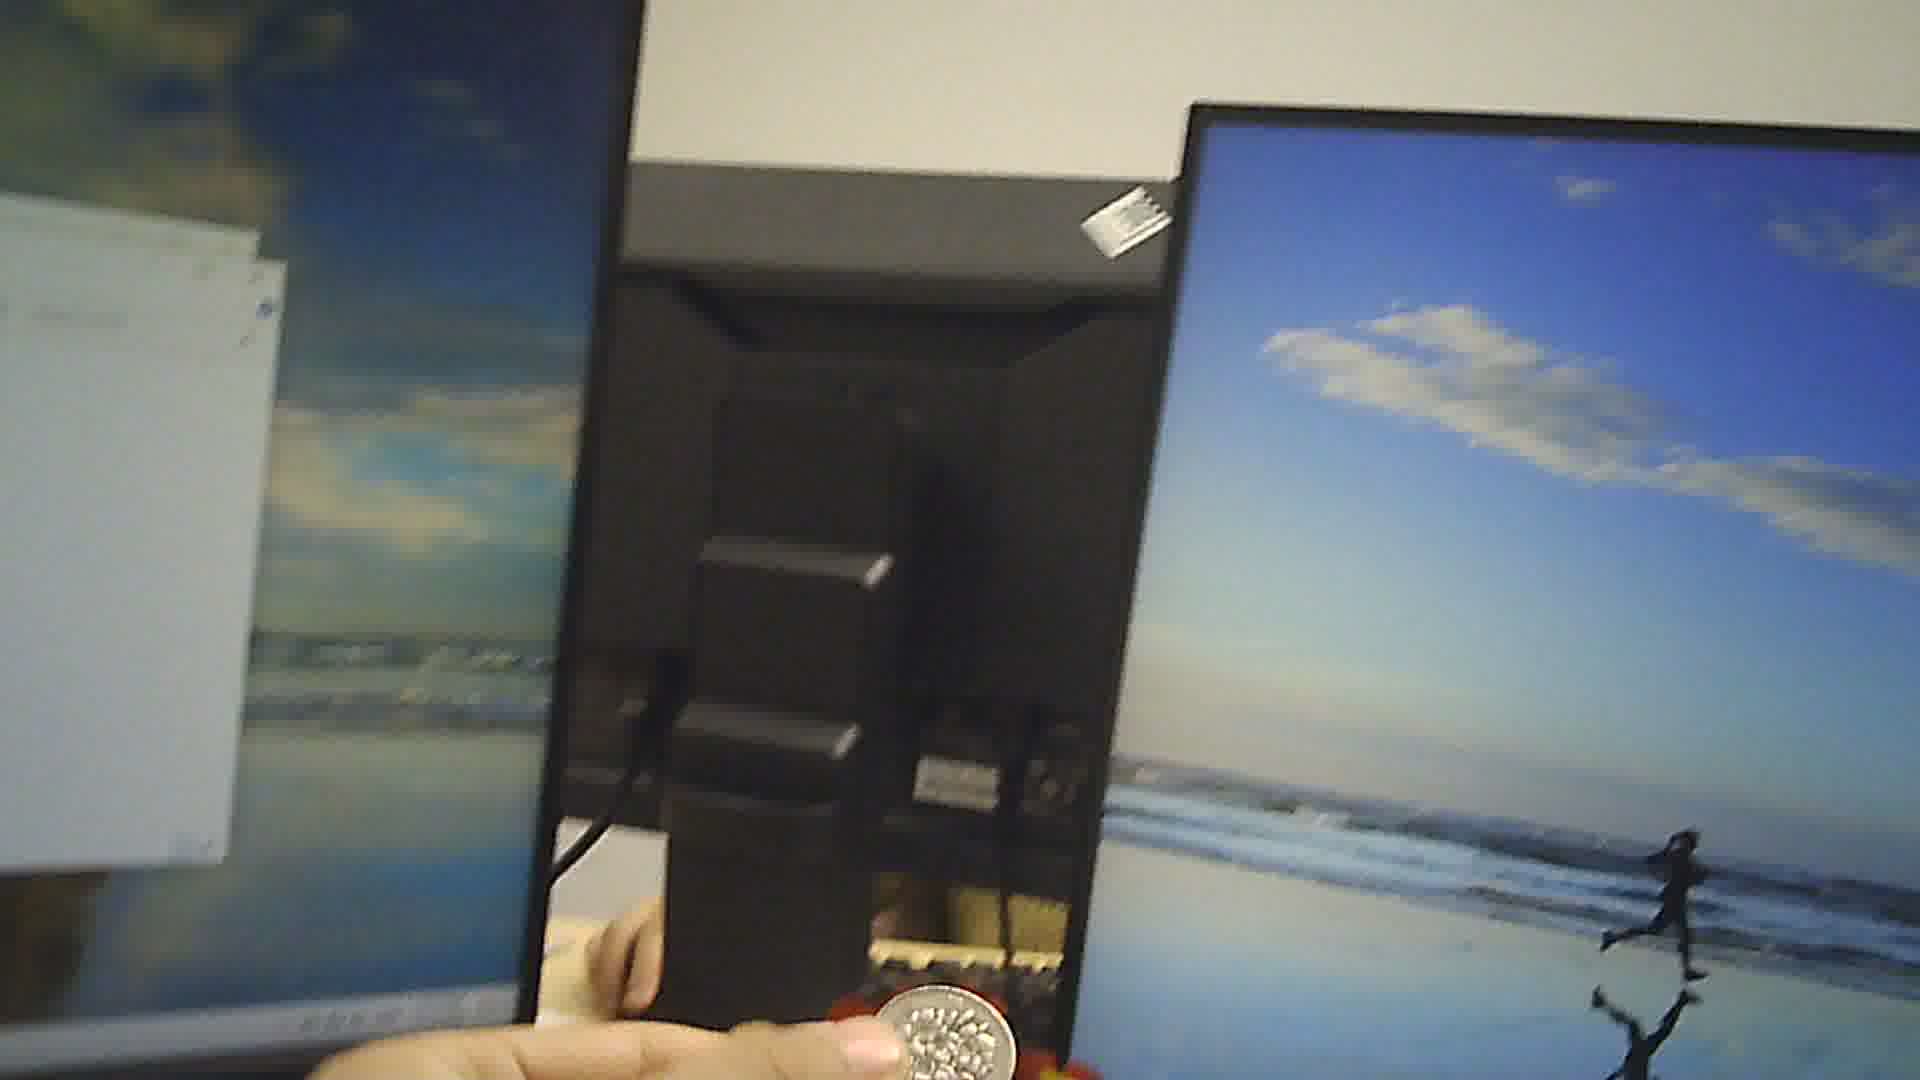100 Yen: (858, 978, 1019, 1079)
